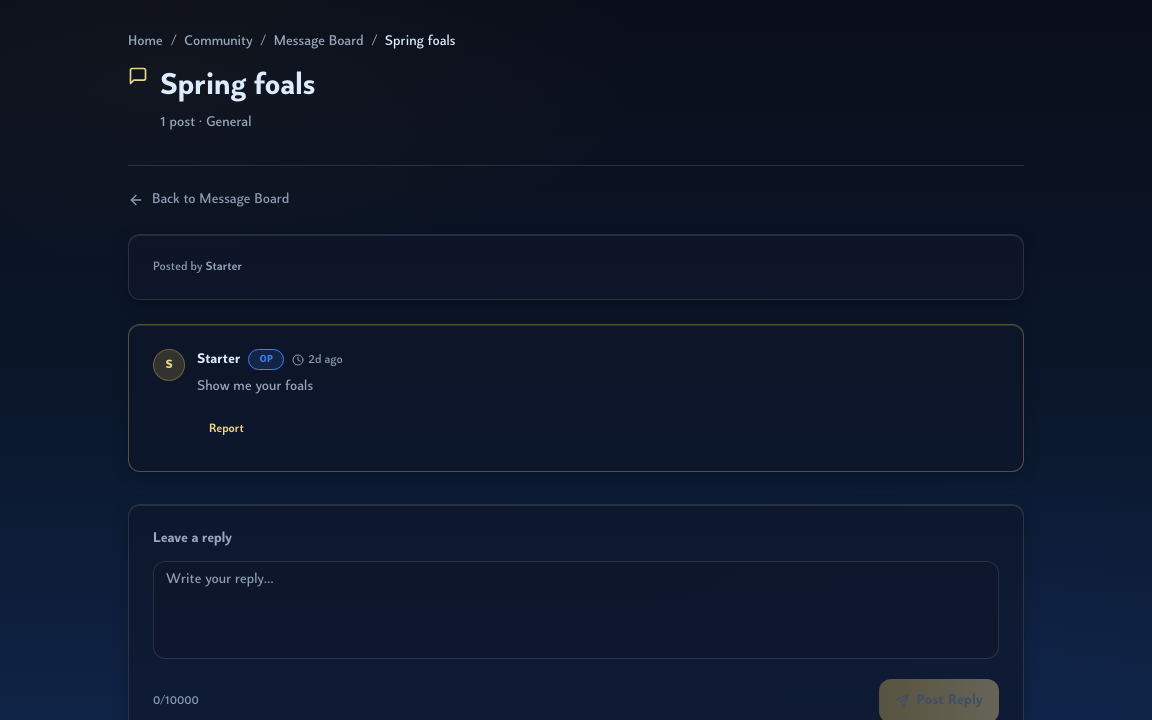
it: MessageThreadPage: held posts and steward tools › names when a posting cooldown ends, in authored words, and keeps the reply
Type "One more thing" into the text box with test id "reply-input".
click(576, 610); type("One more thing")  # box [153,561,999,659]
(page scrolled)
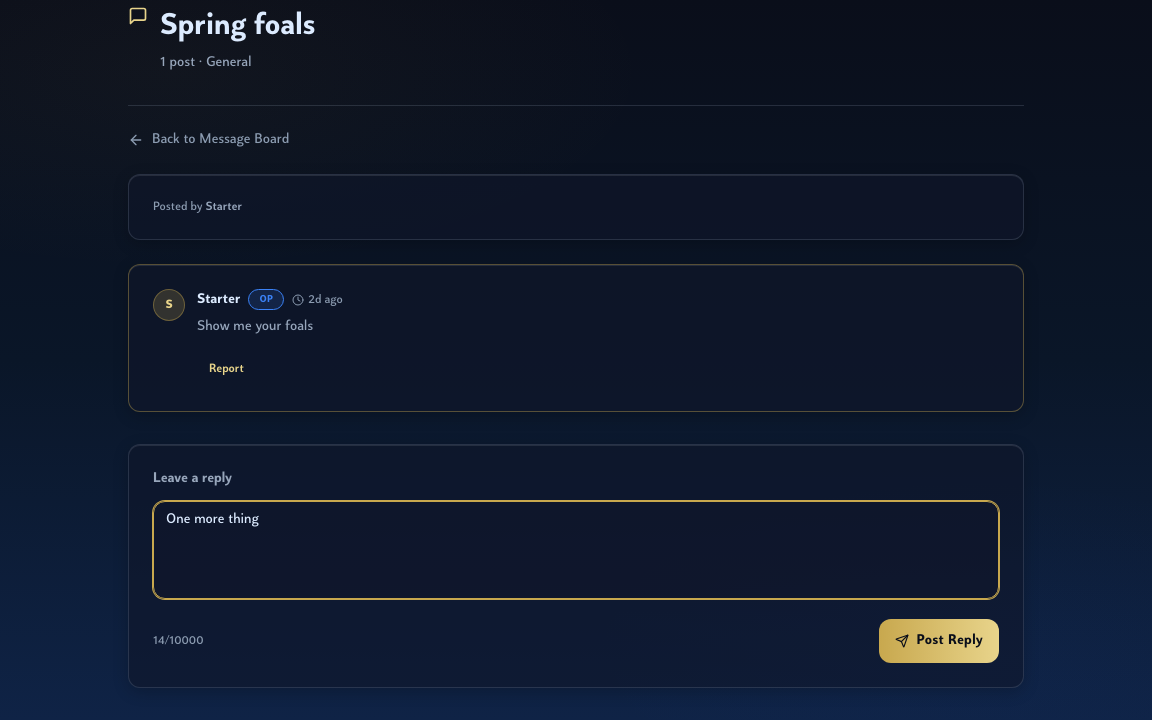
Click the button with test id "submit-reply".
click(939, 641)  # box [878,619,999,663]
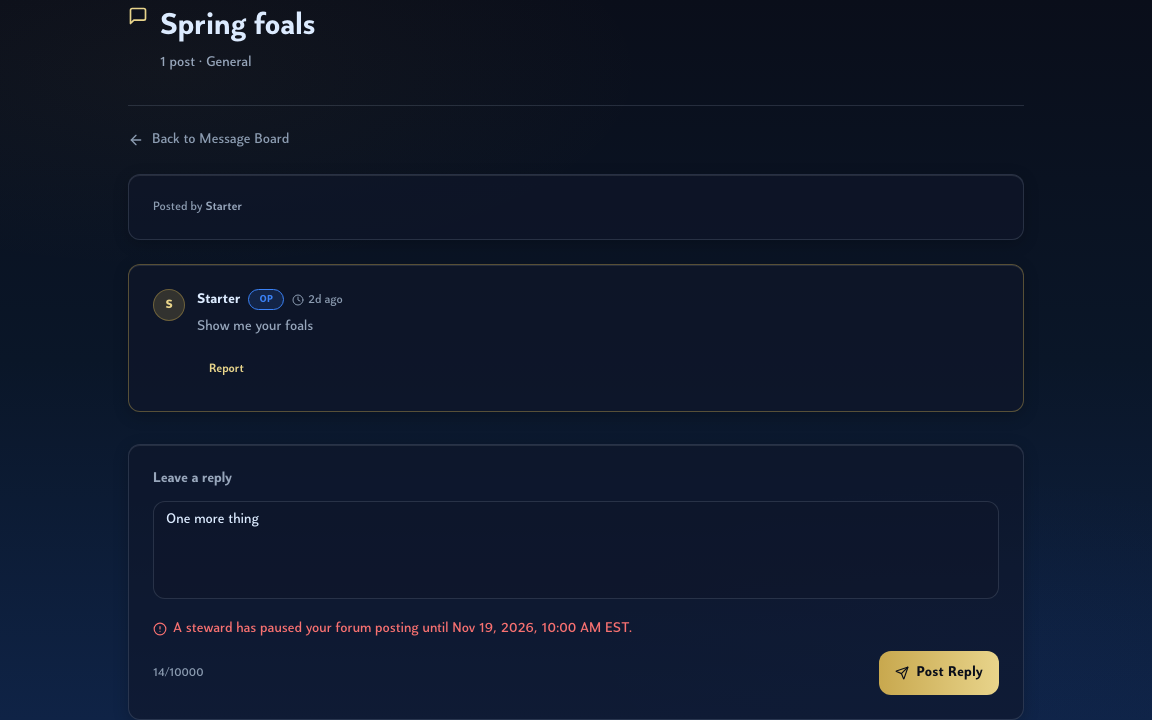
Expected: the message shows "A steward has paused your forum posting until", [173,621,632,636]
Expected: the message reads "A steward has paused your forum posting until Nov 19, 2026, 10:00 AM EST.", [173,621,632,636]
